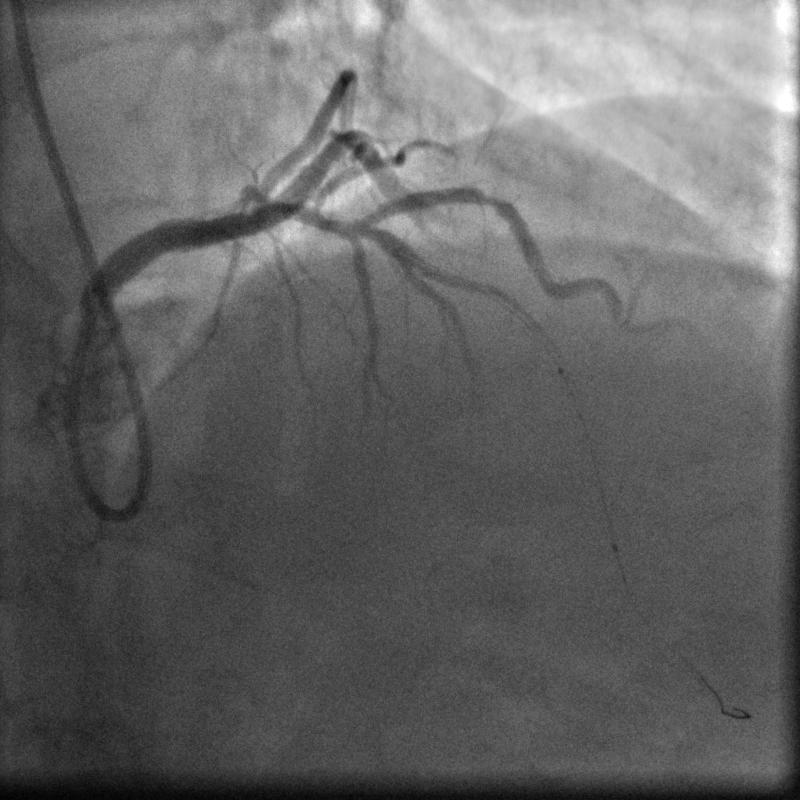Stenosis: (465, 179, 505, 224)
